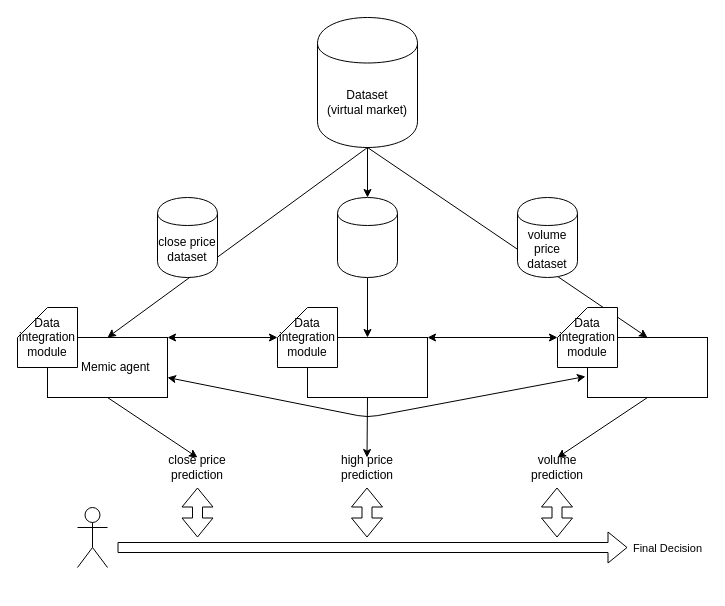
The diagram is 725 pixels wide and 606 high, and some of its shapes have lost their labels. Each missing label, with the box of its shape:
Emotional agent: (306, 336, 428, 398)
Finance expert: (76, 506, 108, 568)
high price dataset: (336, 196, 398, 278)
Rational agent: (586, 336, 708, 398)
